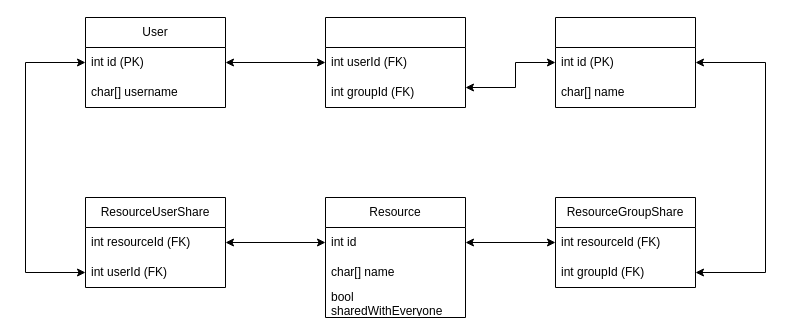
The diagram is 792 pixels wide and 335 high, and some of its shapes have lost their labels. The box of each missing label's shape, as (x1, y1, x2, y2) in pixels:
Group: (554, 16, 696, 108)
UserGroup: (324, 16, 466, 108)
